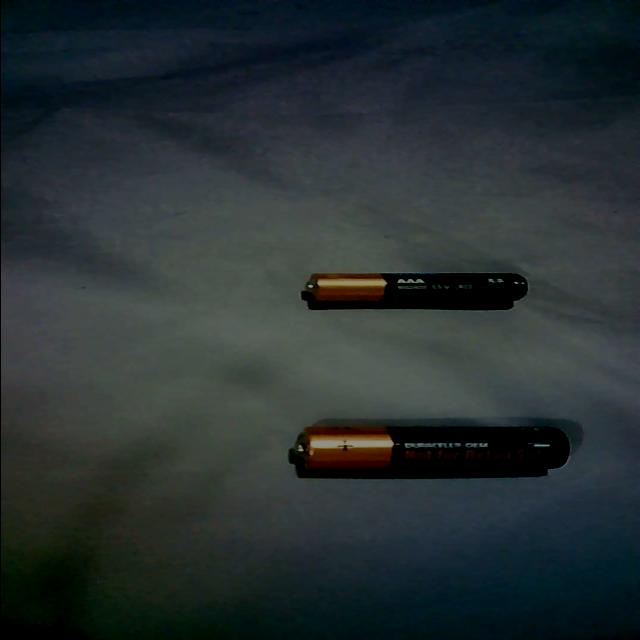AA: (286, 418, 572, 479)
AAA: (304, 270, 532, 312)
